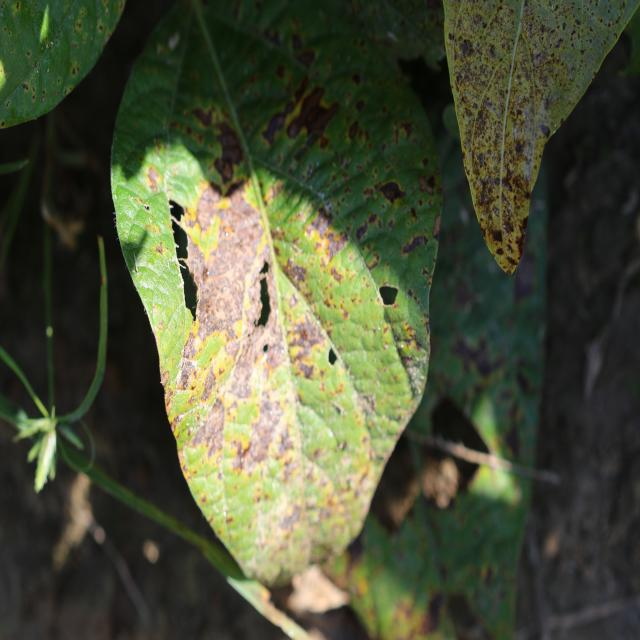Bacterial_Blight: (204, 187, 262, 258), (193, 383, 237, 464), (242, 391, 287, 470), (282, 84, 338, 146), (313, 540, 357, 594), (286, 310, 328, 365), (209, 120, 246, 182), (403, 357, 427, 399), (306, 207, 336, 240), (262, 111, 288, 146), (378, 180, 406, 205), (181, 331, 200, 366), (200, 365, 217, 402), (189, 105, 215, 129), (401, 233, 427, 256), (378, 284, 399, 306), (287, 263, 307, 286), (169, 199, 186, 224), (417, 174, 436, 194), (146, 166, 161, 191), (159, 367, 172, 393), (459, 39, 473, 59), (355, 222, 368, 242), (432, 213, 441, 239), (168, 32, 179, 50), (539, 122, 550, 138), (491, 229, 503, 243), (514, 140, 525, 155), (131, 250, 138, 273), (520, 215, 529, 231), (337, 439, 347, 451), (155, 243, 164, 255), (202, 267, 210, 280), (46, 326, 53, 337), (496, 247, 504, 255), (22, 82, 29, 91), (263, 343, 269, 353), (144, 204, 150, 212), (502, 223, 508, 231), (71, 67, 76, 75), (26, 50, 31, 57), (76, 22, 81, 29), (41, 95, 45, 103), (0, 121, 5, 127), (35, 61, 39, 68), (6, 101, 10, 108), (225, 231, 229, 238), (45, 43, 49, 49), (47, 67, 50, 73), (36, 69, 39, 74), (41, 46, 43, 51)
Soybean: (118, 0, 438, 589)
